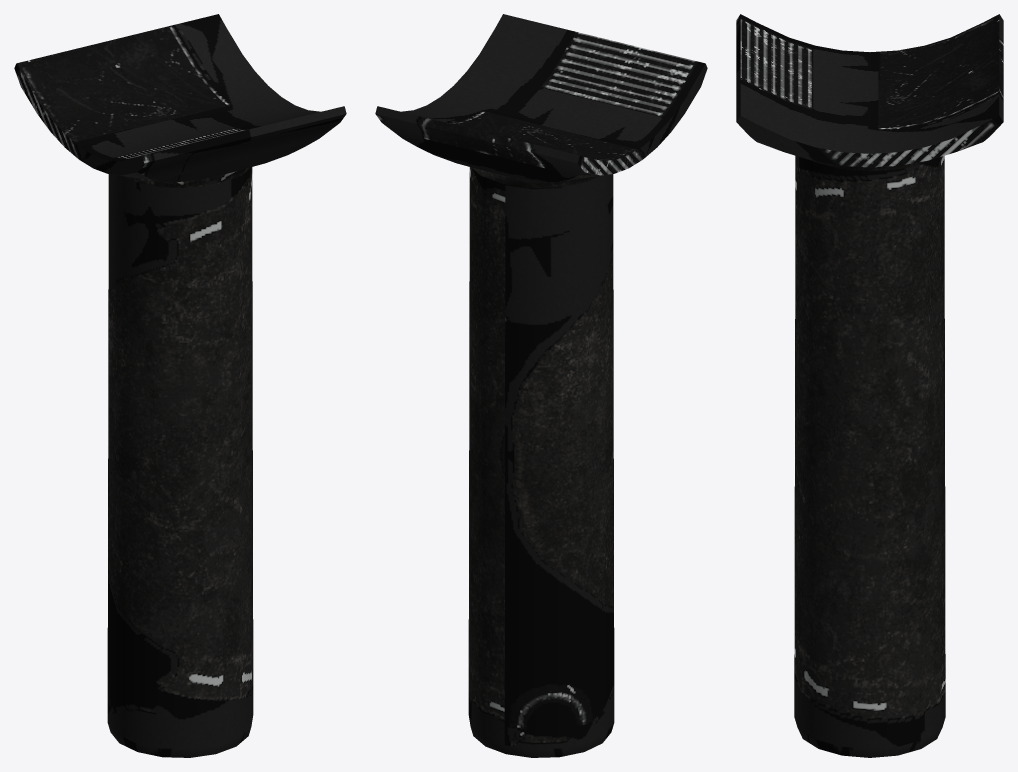
The model's file is BMX_Seat Post_No Brand_Standard.fbx.
3 views of the same model, side by side, from view 1: azimuth 30°, elevation 25°; view 2: azimuth 150°, elevation 25°; view 3: azimuth 270°, elevation 25° (orthographic). The views are drawn at different scales.
Parts seen in each view (by area): view 1: BMX_SeatPost_Nobrand_Standard; view 2: BMX_SeatPost_Nobrand_Standard; view 3: BMX_SeatPost_Nobrand_Standard.
Part boxes in pixels (x1,y1,x2,y2): BMX_SeatPost_Nobrand_Standard: [14, 14, 346, 757]; BMX_SeatPost_Nobrand_Standard: [375, 14, 707, 757]; BMX_SeatPost_Nobrand_Standard: [736, 14, 1003, 757].
Size of the model in its own units: 4.08 by 12.4 by 4.53.
